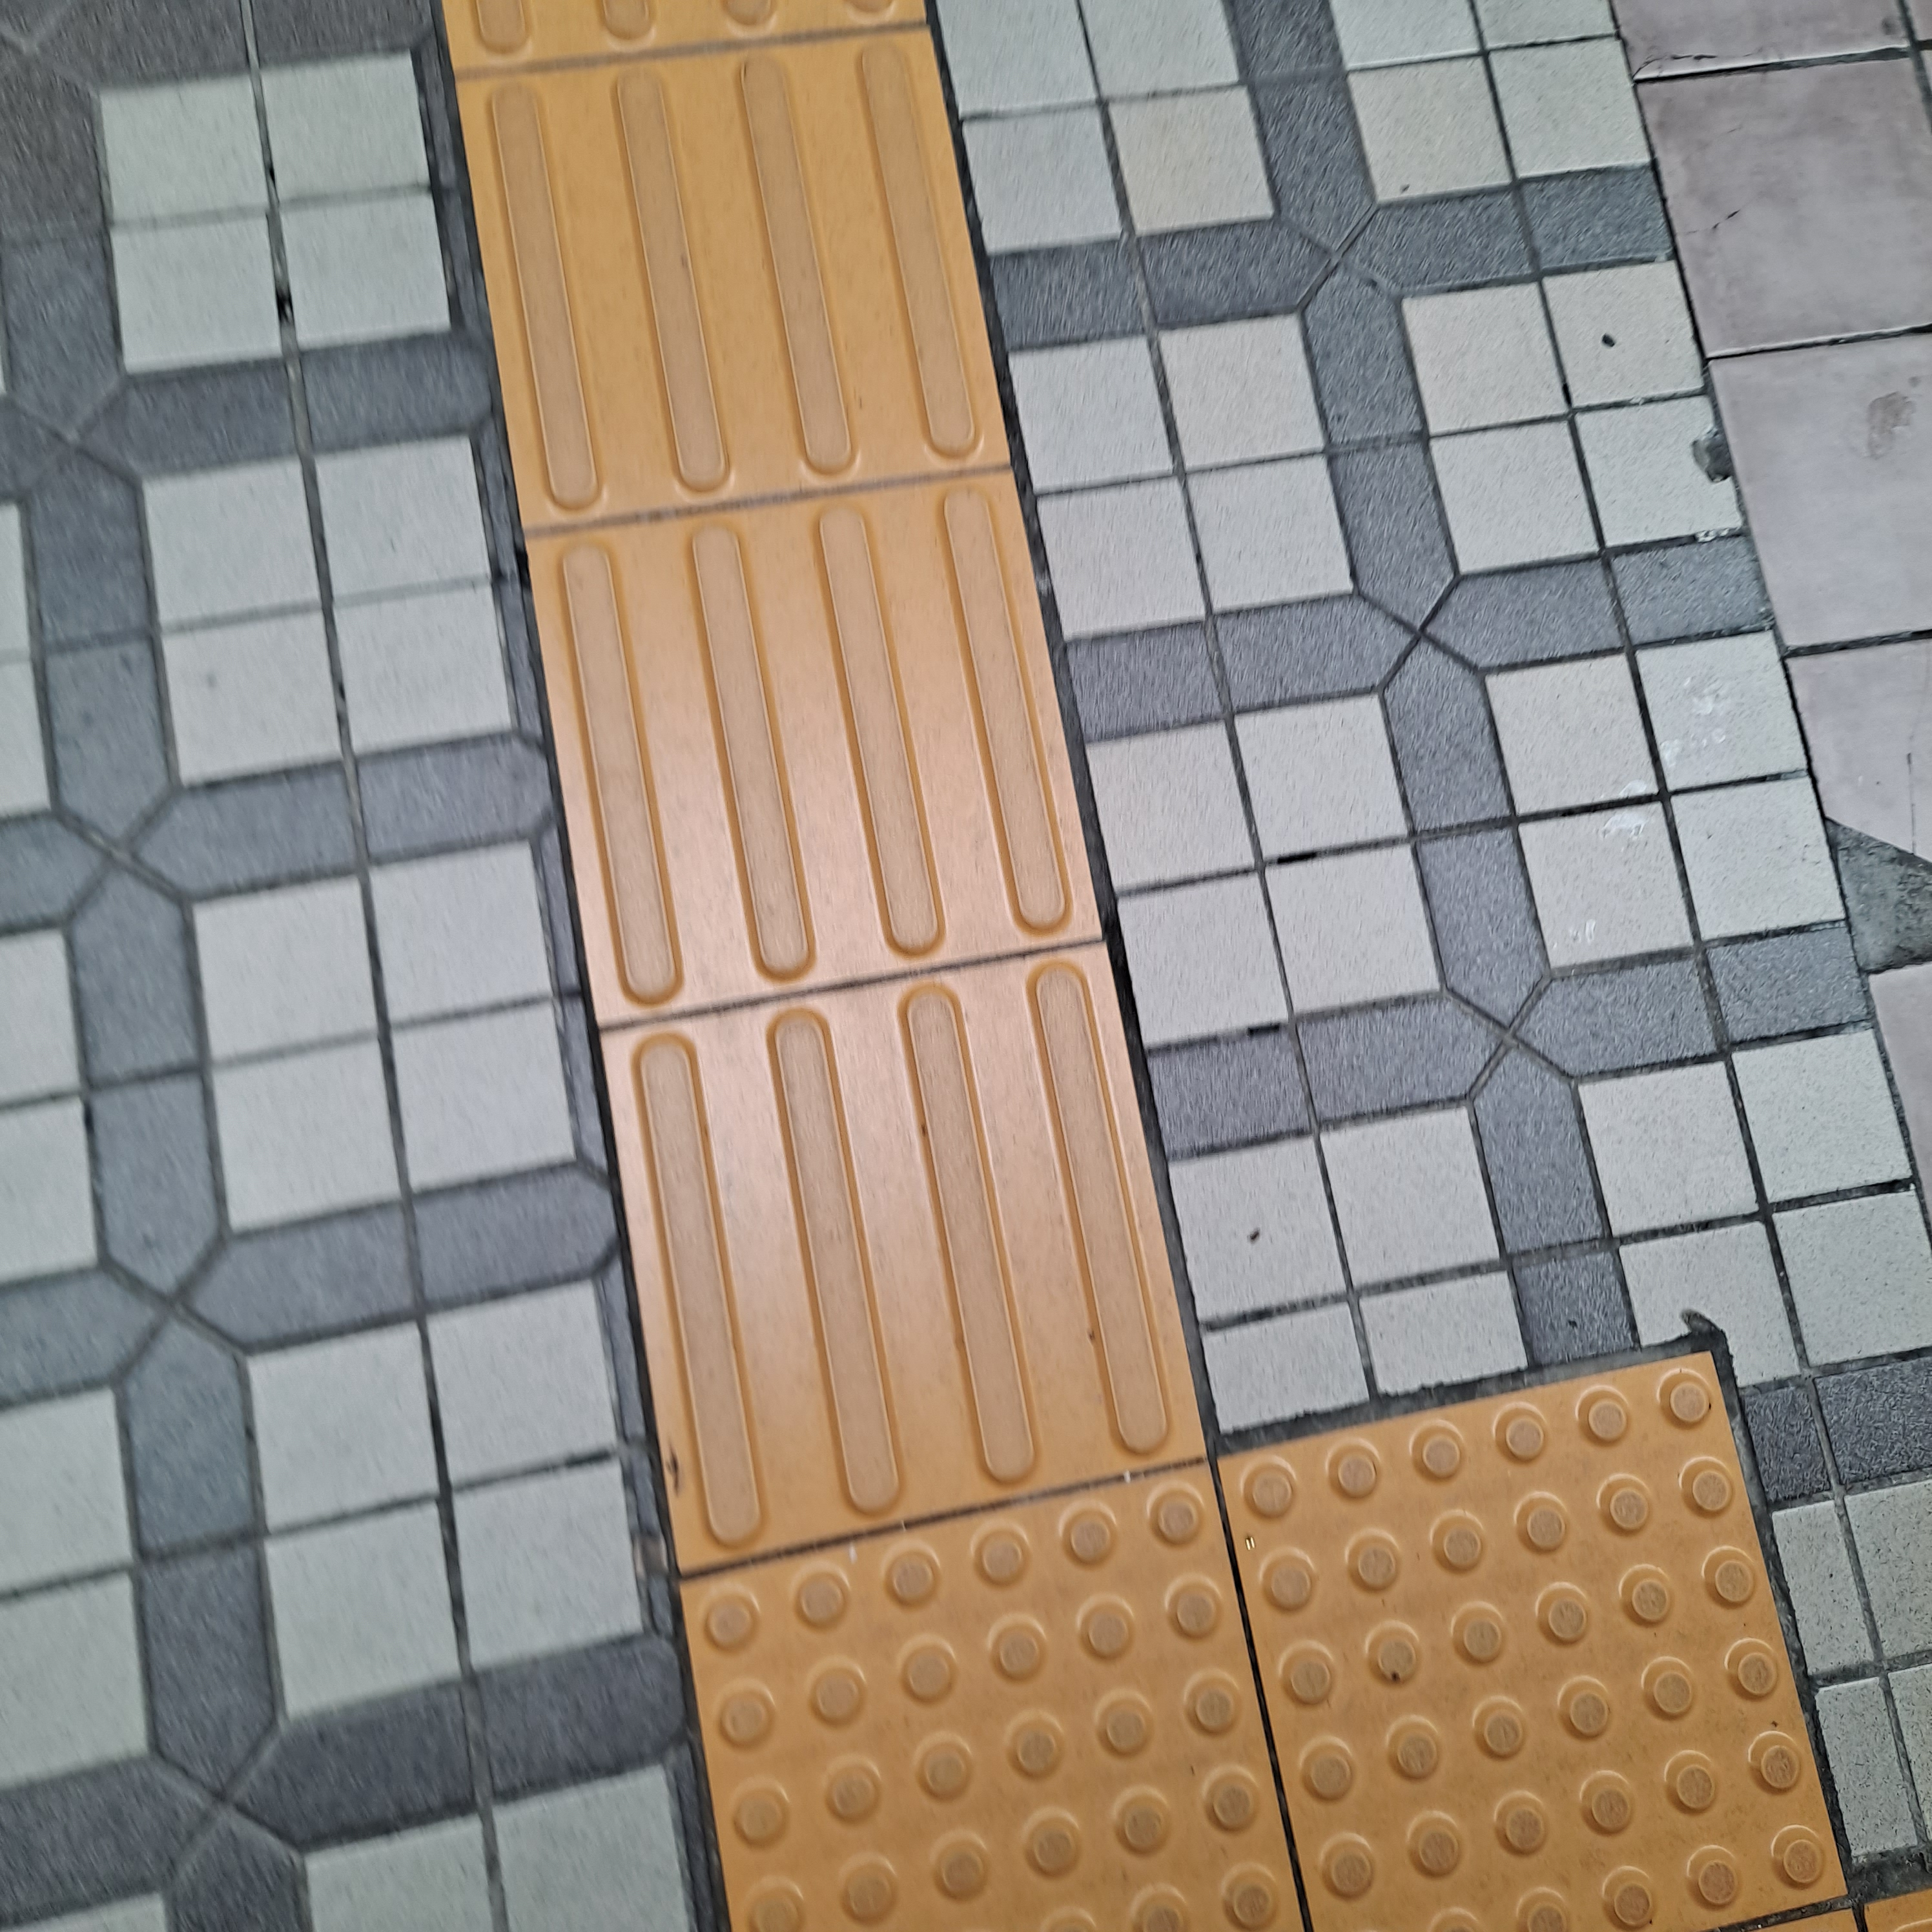guideBlock: (635, 1016, 1166, 1467), (556, 476, 1037, 939), (485, 67, 952, 502)
warningBlock: (1212, 1419, 1831, 1916), (702, 1553, 1315, 1932)
